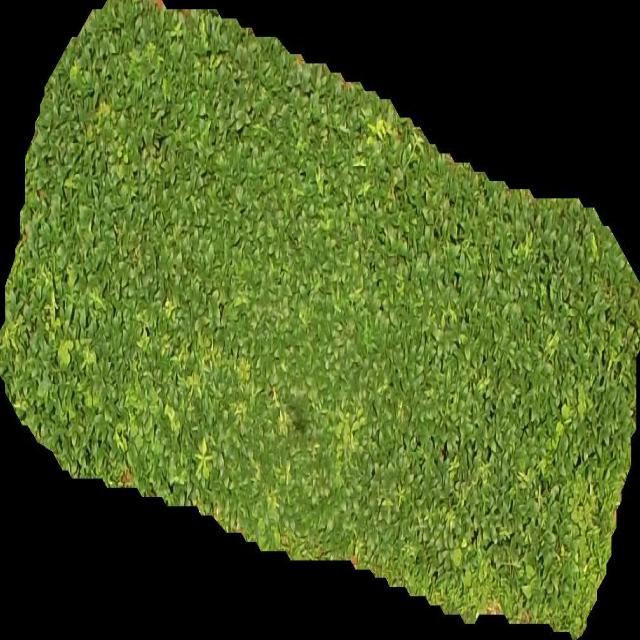Soybean: (0, 1, 640, 640)
